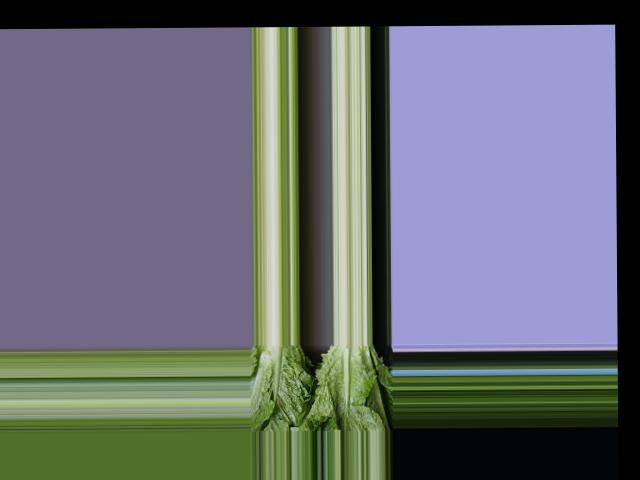lettuce: (254, 344, 310, 426)
